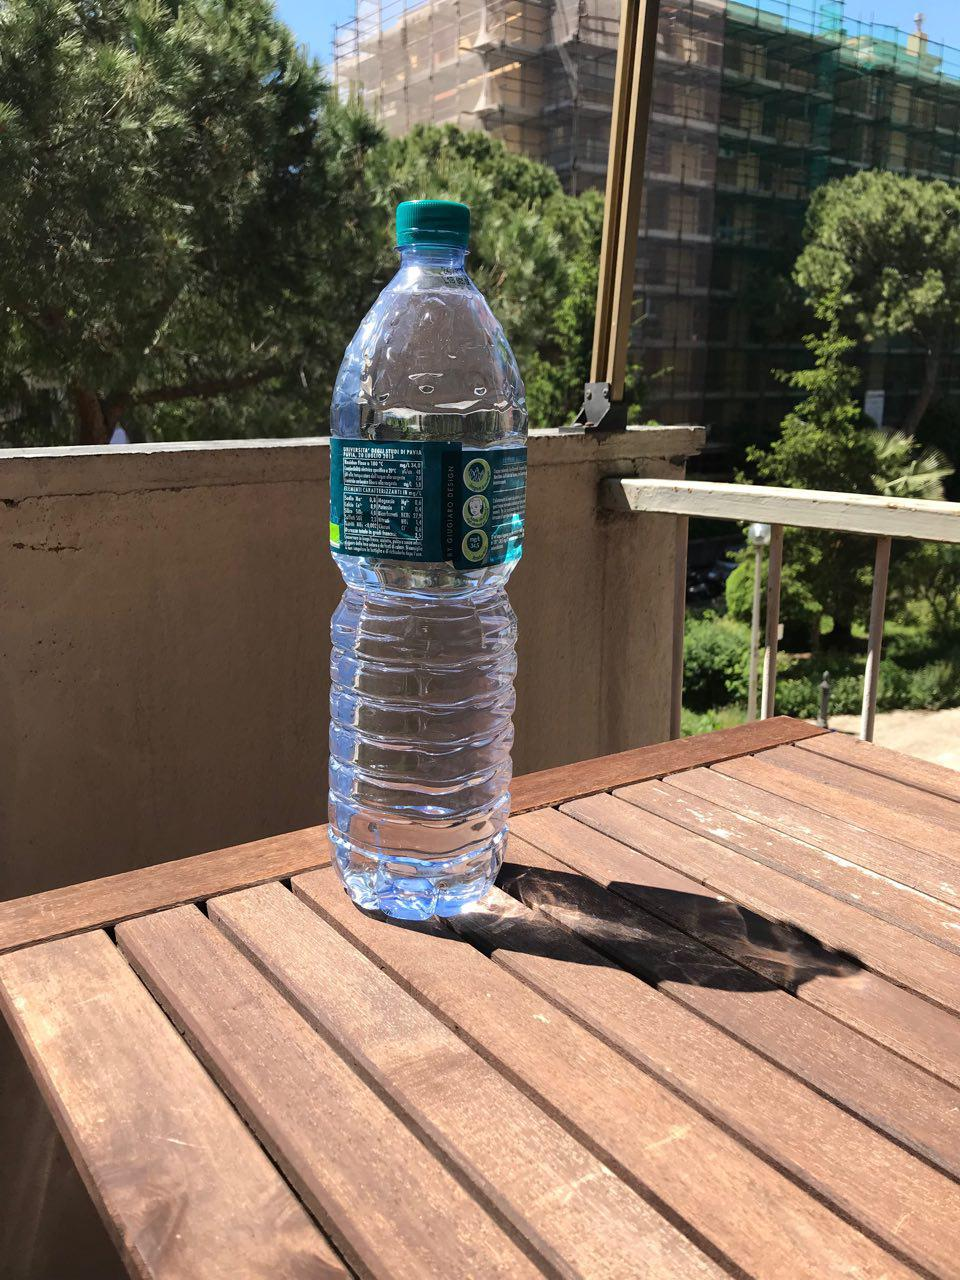san_bernardo: (327, 198, 529, 922)
